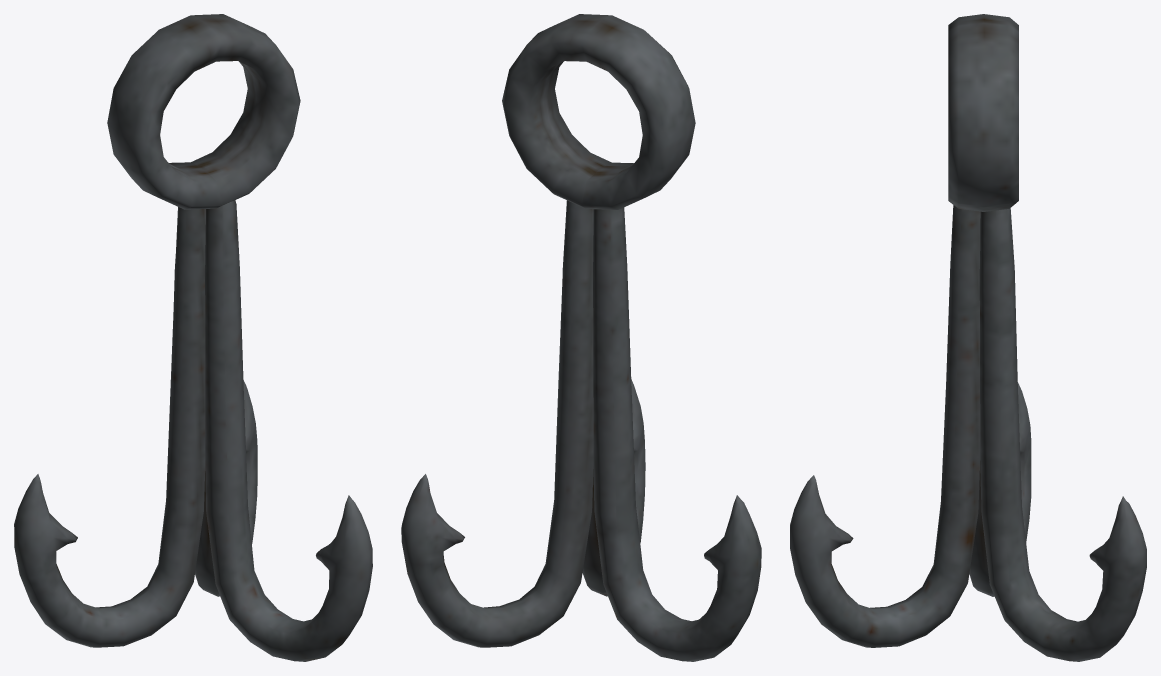
File: fishHook.fbx
3 renders of one model, left to right at view 1: azimuth 30°, elevation 25°; view 2: azimuth 150°, elevation 25°; view 3: azimuth 270°, elevation 25°, orthographic.
Parts seen in each view (by area): view 1: fishHook, spining01.005; view 2: fishHook, spining01.005; view 3: fishHook, spining01.005.
Part boxes in pixels (<box>): fishHook: <box>14,200,372,661</box>; spining01.005: <box>107,14,300,209</box>; fishHook: <box>401,200,761,661</box>; spining01.005: <box>502,14,695,209</box>; fishHook: <box>790,205,1146,661</box>; spining01.005: <box>948,14,1018,211</box>.
Bounding box in the file's own units: 3.28 × 6.42 × 3.43.
